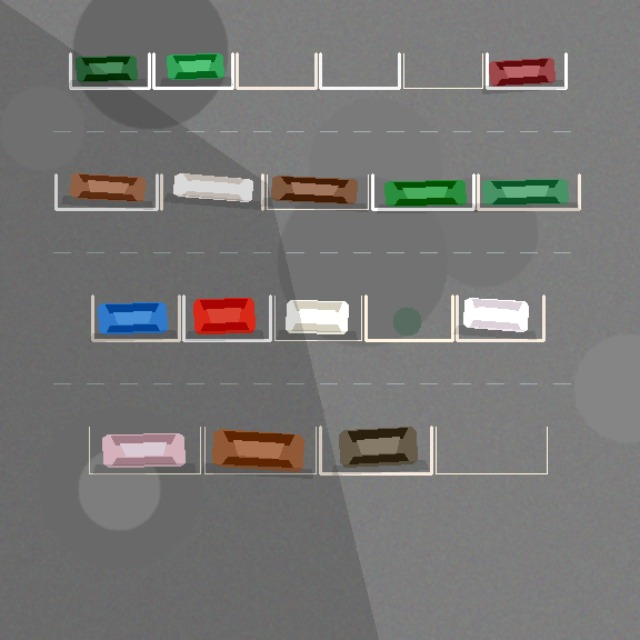space-empty: (436, 427, 547, 473), (366, 296, 452, 340), (237, 53, 316, 88), (320, 53, 399, 88), (403, 53, 482, 88)
space-occupied: (204, 427, 316, 473), (89, 427, 200, 473), (320, 427, 431, 473), (92, 296, 179, 340), (183, 296, 270, 340), (274, 296, 361, 340), (457, 296, 543, 340), (56, 174, 157, 209), (161, 174, 262, 209), (267, 174, 368, 209), (372, 174, 473, 209), (478, 174, 579, 209), (70, 53, 149, 88), (153, 53, 232, 88), (487, 53, 566, 88)
